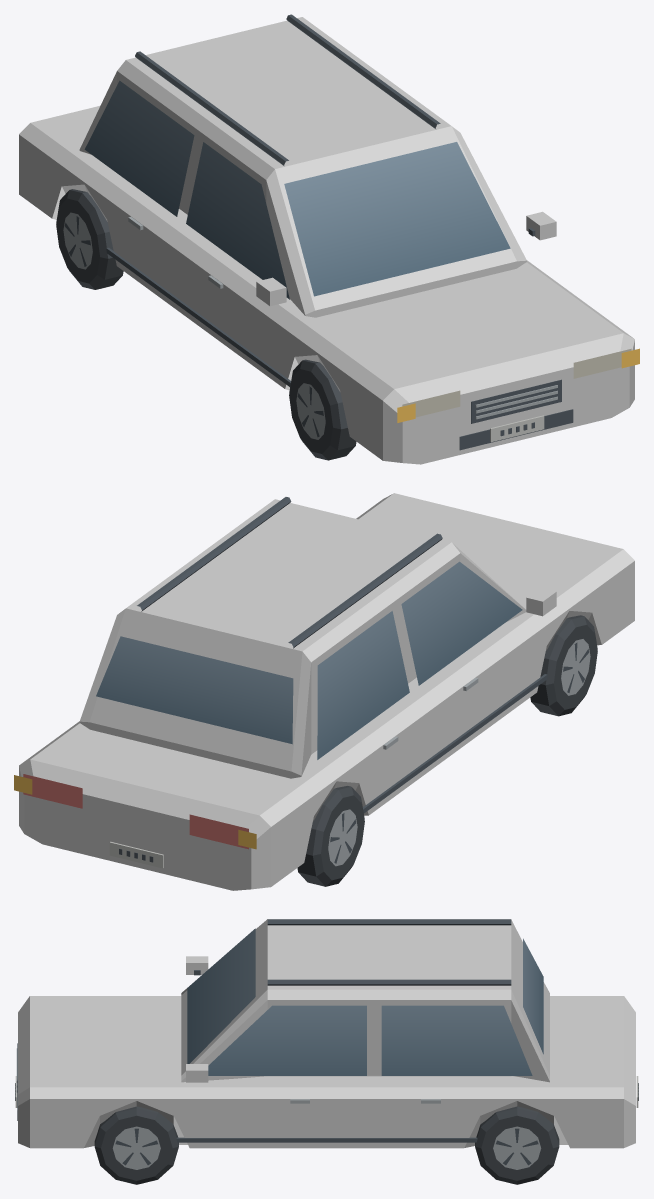
File: wagon.glb
The picture shows the model from 3 angles, top to bottom: view 1: azimuth 30°, elevation 25°; view 2: azimuth 150°, elevation 25°; view 3: azimuth 270°, elevation 25°; orthographic projection. The views are drawn at different scales.
Visible parts, largest first — view 1: body, wheel_1, wheel_3; view 2: body, wheel_3, wheel_1, brake_0, brake_1; view 3: body, wheel_2, wheel_0.
Boxes of the visible parts, x1,y1,x2,y2 form: body: [19, 14, 634, 464]; wheel_1: [289, 359, 356, 460]; wheel_3: [56, 189, 123, 289]; body: [19, 493, 634, 890]; wheel_3: [297, 786, 364, 886]; wheel_1: [530, 615, 597, 716]; brake_0: [23, 774, 82, 808]; brake_1: [189, 814, 248, 849]; body: [15, 919, 638, 1148]; wheel_2: [475, 1106, 559, 1184]; wheel_0: [94, 1106, 178, 1184].
Bounding box in the file's own units: 2.05 × 1.53 × 4.74.
